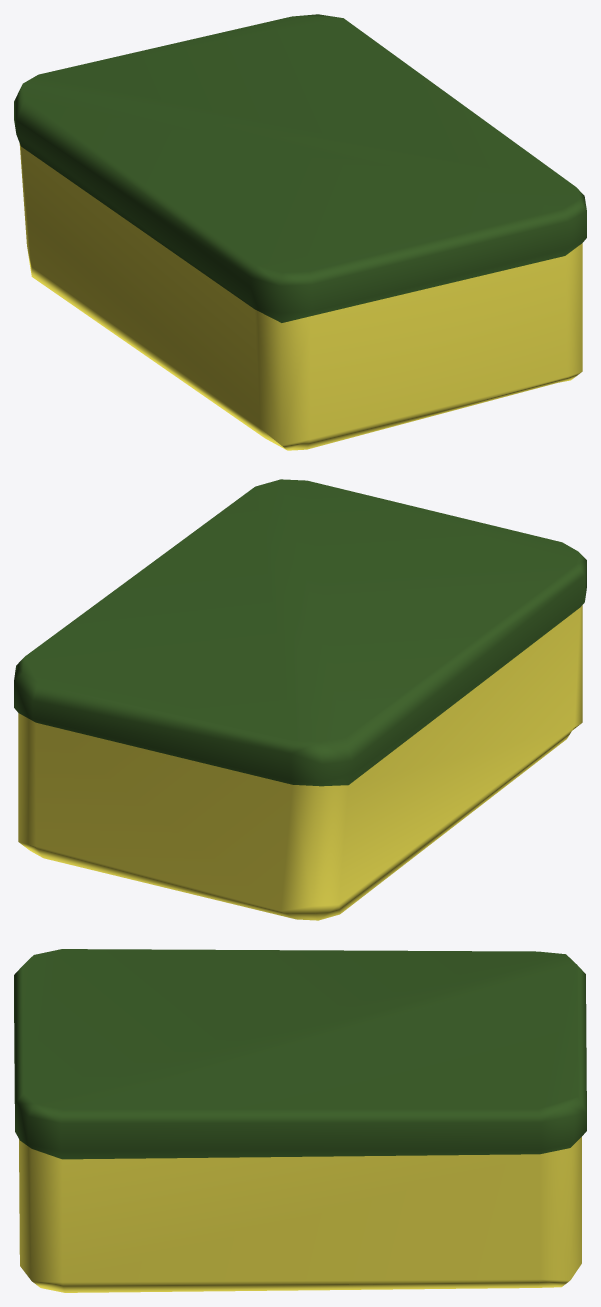
File: sponge.fbx
3 views of the same model, one above another, from view 1: azimuth 30°, elevation 25°; view 2: azimuth 150°, elevation 25°; view 3: azimuth 270°, elevation 25° (orthographic). The views are drawn at different scales.
Parts seen in each view (by area): view 1: pCube6762__M_Cnsw_58_FloorSet_Obj_Sponge; view 2: pCube6762__M_Cnsw_58_FloorSet_Obj_Sponge; view 3: pCube6762__M_Cnsw_58_FloorSet_Obj_Sponge.
Part boxes in pixels (left/top/right/bottom): pCube6762__M_Cnsw_58_FloorSet_Obj_Sponge: left=14, top=14, right=586, bottom=450; pCube6762__M_Cnsw_58_FloorSet_Obj_Sponge: left=14, top=479, right=586, bottom=920; pCube6762__M_Cnsw_58_FloorSet_Obj_Sponge: left=14, top=949, right=586, bottom=1292.
Bounding box in the file's own units: 2303 × 1189 × 3308.
